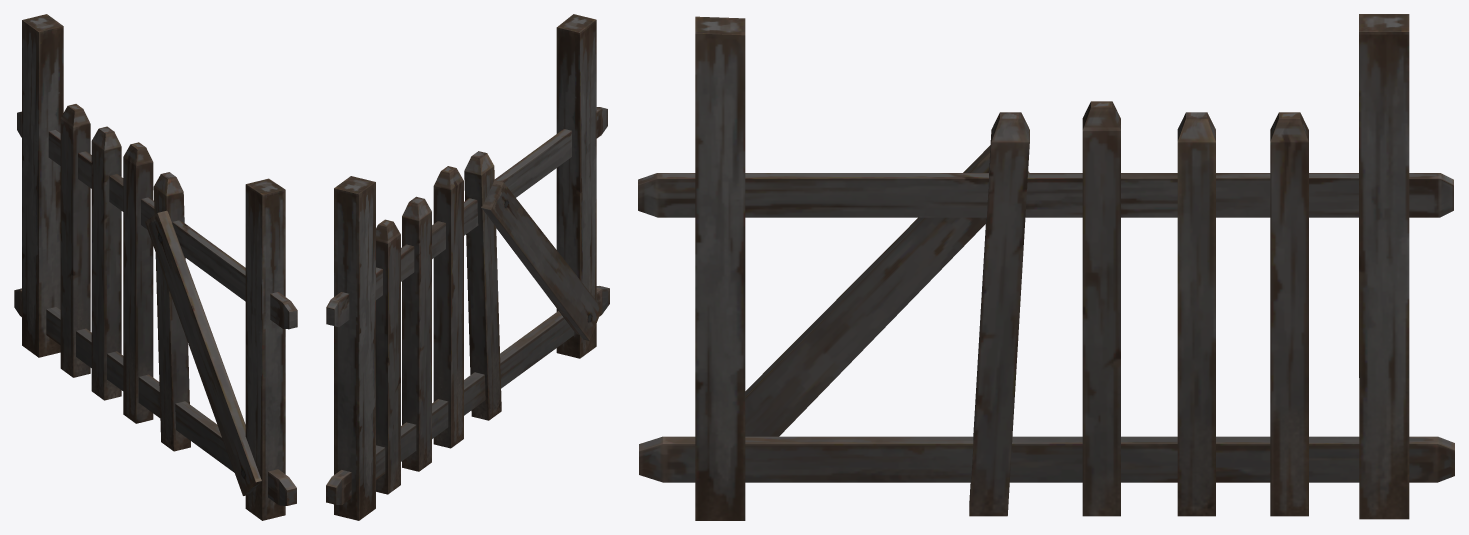
The model's file is Stage-muwu-zhalan2.FBX.
3 renders of one model, left to right at view 1: azimuth 30°, elevation 25°; view 2: azimuth 150°, elevation 25°; view 3: azimuth 270°, elevation 25°, orthographic. The views are drawn at different scales.
Parts seen in each view (by area): view 1: Object005; view 2: Object005; view 3: Object005.
Boxes of the visible parts, x1,y1,x2,y2 form: Object005: (14,14,297,520); Object005: (326,14,609,520); Object005: (638,14,1454,520).
Bounding box in the file's own units: 0.1209 × 1.29 × 1.95.
1 material, 1 textured.
